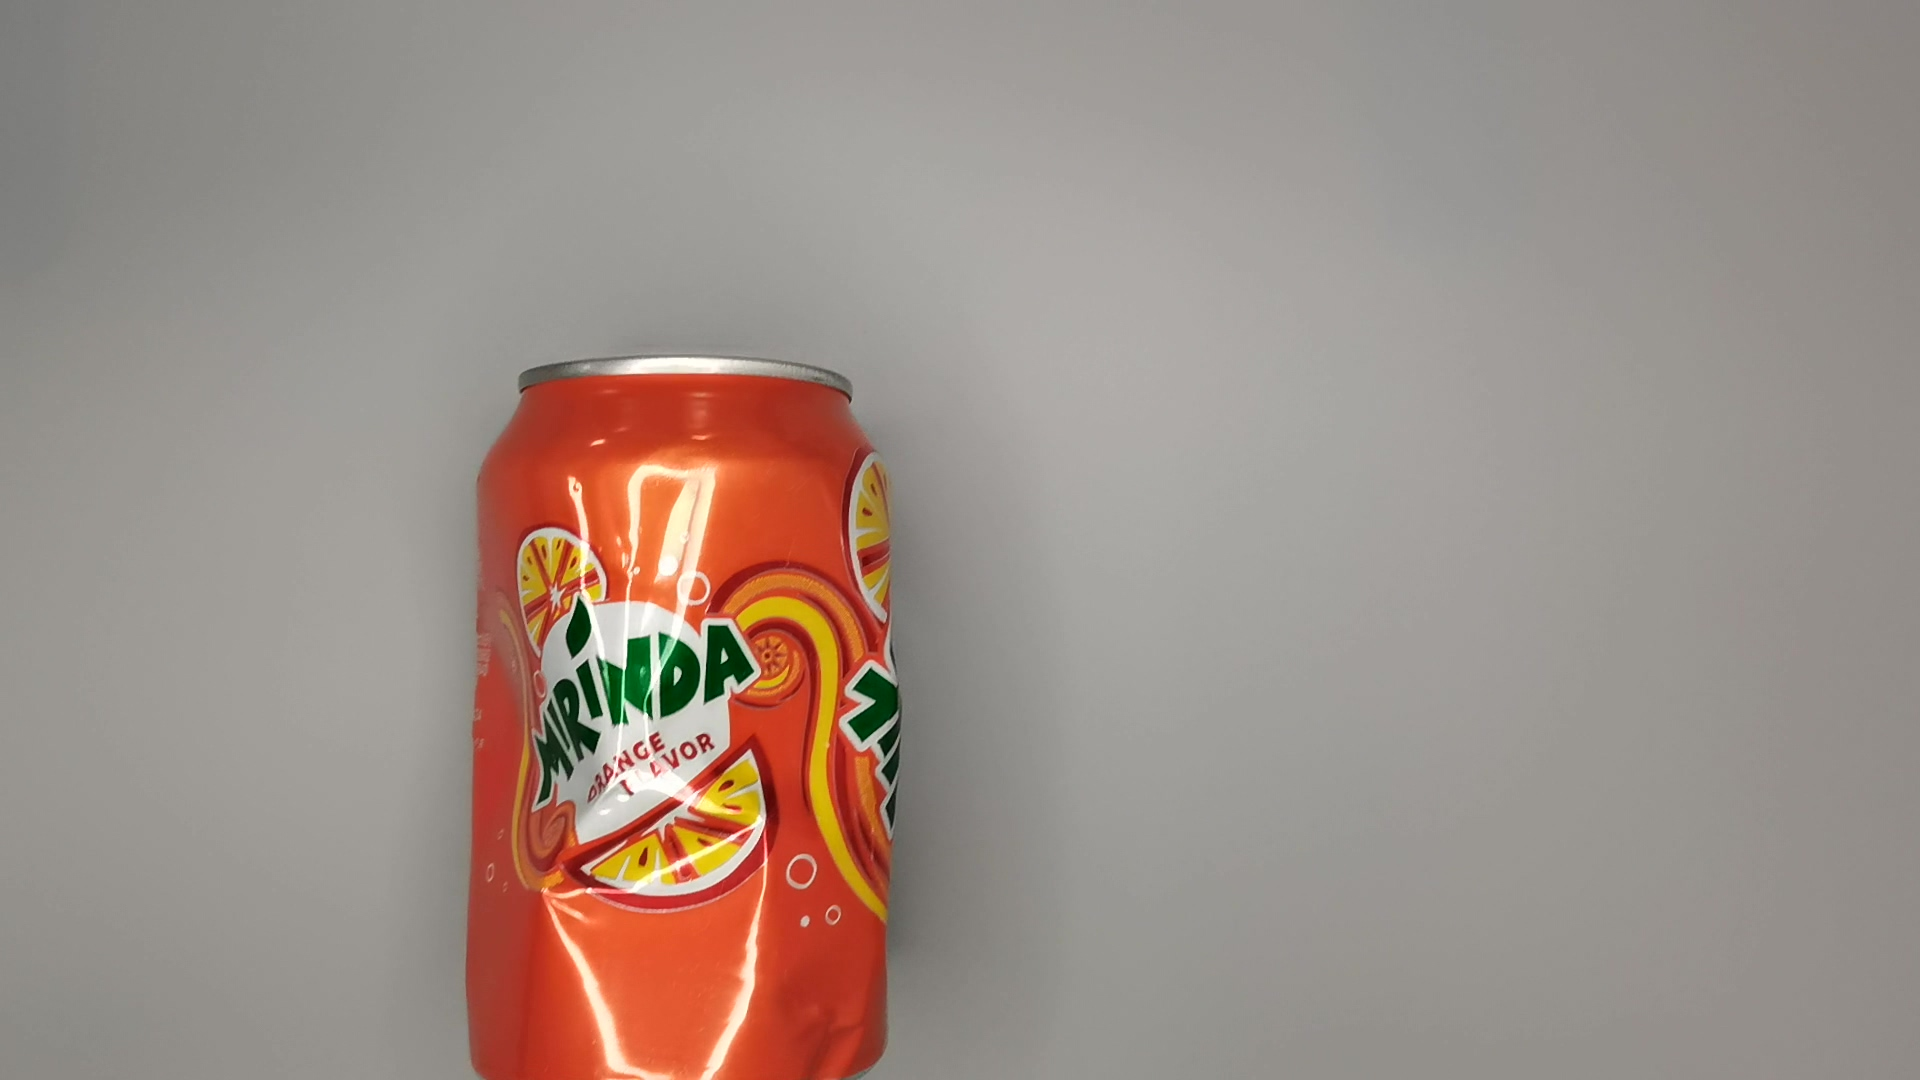can: (452, 345, 915, 1080)
